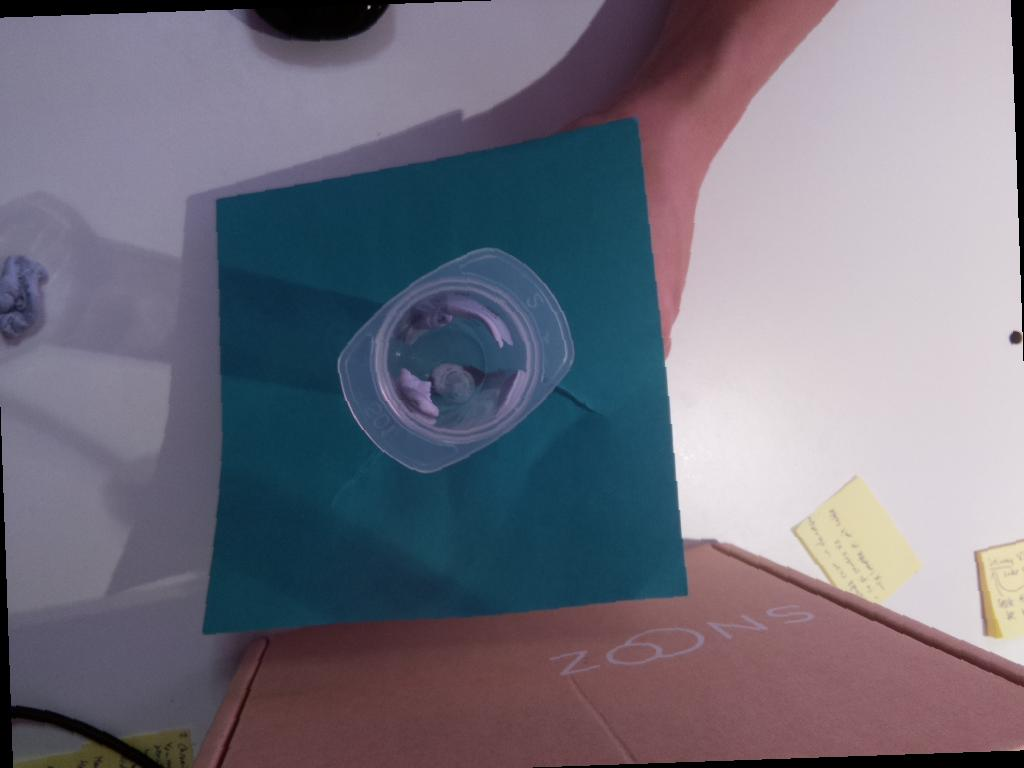dirty: (334, 243, 575, 477)
